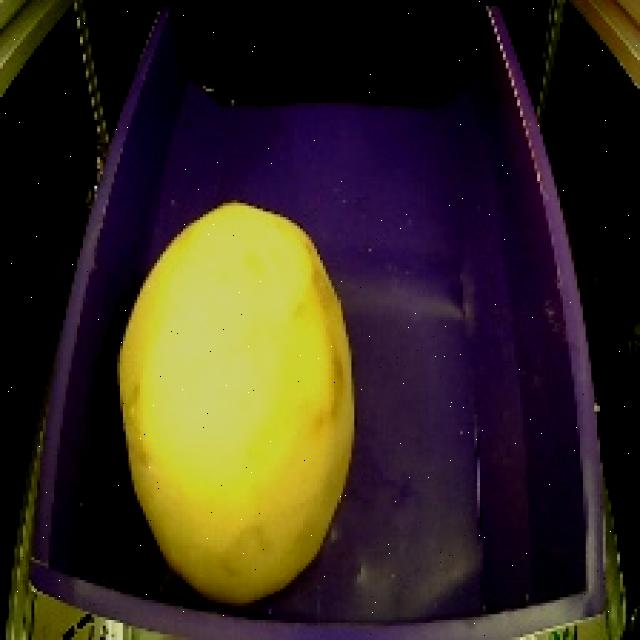full_potato: (104, 192, 366, 615)
